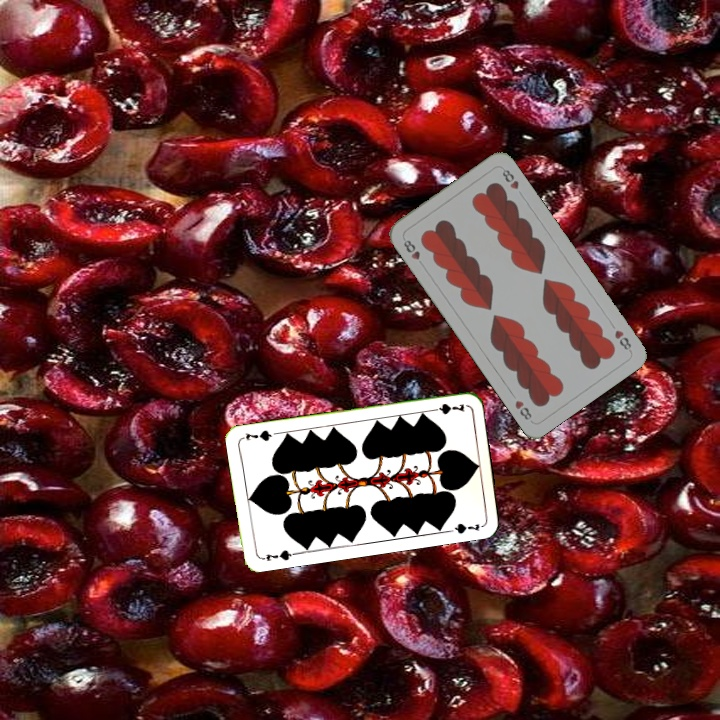G7: (257, 546, 298, 564), (426, 400, 467, 417)
H8: (399, 236, 427, 270), (610, 326, 634, 354)
